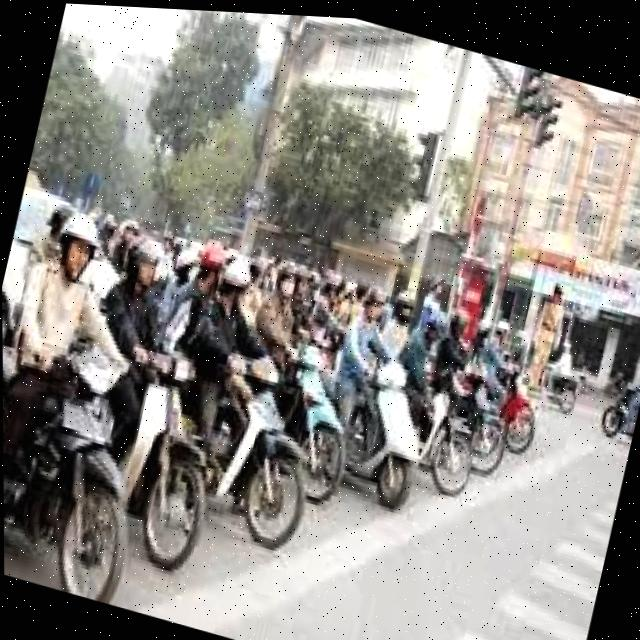motorcycle: (2, 319, 172, 609), (90, 334, 243, 581), (198, 349, 338, 562), (329, 344, 443, 520)
